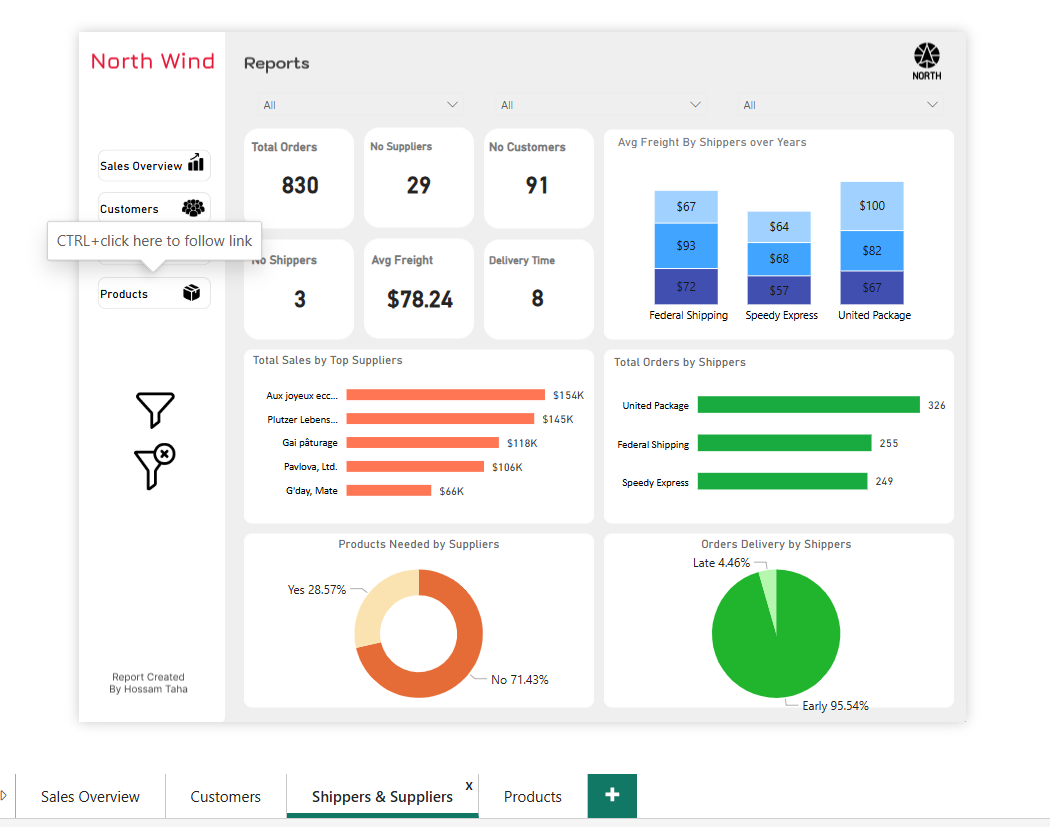

What the dashboard file says about the page in this screenshot:
{"tool":"powerbi","page":{"name":"Shippers & Suppliers","canvas":[887,690],"ordinal":2},"visuals":[{"type":"card","title":"Total Orders","fields":{"Values":["Orders (2).Total Orders"]},"box":[167.8,107.8,107.8,76.7],"z":0},{"type":"shape","box":[18.9,117.8,113.3,32.2],"z":0,"group":"g2"},{"type":"card","title":"No Suppliers","fields":{"Values":["Suppliers.No Suppliers"]},"box":[285.9,107.6,107.6,77.2],"z":1000},{"type":"shape","box":[18.9,161.1,113.3,32.2],"z":1000,"group":"g2"},{"type":"shape","box":[18.9,202.3,113.3,32.2],"z":2000,"group":"g2"},{"type":"card","title":"Avg Freight","fields":{"Values":["Orders.Avg Freight"]},"box":[287,220.7,107.6,77.2],"z":2000},{"type":"card","title":"No Shippers","fields":{"Values":["Shippers.No Shippers"]},"box":[167.8,221.1,107.8,76.7],"z":3000},{"type":"shape","box":[18.9,245.6,113.3,32.2],"z":3000,"group":"g2"},{"type":"image","box":[101,115.6,31.3,30.2],"z":4000,"group":"g2"},{"type":"card","title":"Delivery Time","fields":{"Values":["Orders.Avg Delivery Time"]},"box":[405.6,221.1,107.8,76.7],"z":4000},{"type":"card","title":"No Customers","fields":{"Values":["Customers.No Customers"]},"box":[405.6,107.8,107.8,76.7],"z":5000},{"type":"image","box":[98,160.9,34.2,32.2],"z":5000,"group":"g2"},{"type":"image","box":[94.1,202.1,38.1,32.2],"z":6000,"group":"g2"},{"type":"barChart","title":"Total Sales by Top Suppliers","fields":{"Category":["Suppliers.CompanyName"],"Y":["Order_Details.Total Saless"]},"box":[168.5,321.3,344.4,158.3],"z":6000},{"type":"image","box":[94.1,245.4,38.1,31.2],"z":7000,"group":"g2"},{"type":"group","id":"g1","title":"Group 5","box":[33.3,350,84.4,113.3],"z":7000},{"type":"columnChart","title":"Avg Freight By Shippers over Years","fields":{"Category":["Shippers.CompanyName"],"Series":["Orders.ShippedDate.Variation.Date Hierarchy.Year"],"Y":["Orders.Avg Freight"]},"box":[533.7,103,338,197.8],"z":8000},{"type":"barChart","title":"Total Orders by Shippers","fields":{"Y":["Orders.Total Orders"],"Category":["Shippers.CompanyName"]},"box":[530,322,344,158],"z":9000},{"type":"image","box":[40,350,72.2,55.6],"z":9000,"group":"g1"},{"type":"image","box":[33.3,406.7,84.4,56.7],"z":10000,"group":"g1"},{"type":"pieChart","title":"Orders Delivery by Shippers","fields":{"Category":["Orders.IsLate"],"Y":["CountNonNull(Orders.IsLate)"]},"box":[521.7,505.4,352.2,184.8],"z":10000},{"type":"slicer","fields":{"Values":["Orders.ShipRegion Hierarchy.ShipRegion","Orders.ShipRegion Hierarchy.ShipCountry","Orders.ShipRegion Hierarchy.ShipCity"]},"box":[168.3,50,225.8,45.8],"z":11000},{"type":"slicer","fields":{"Values":["Orders.ShippedDate.Variation.Date Hierarchy.Year","Orders.ShippedDate.Variation.Date Hierarchy.Quarter","Orders.ShippedDate.Variation.Date Hierarchy.Month","Orders.ShippedDate.Variation.Date Hierarchy.Day"]},"box":[406.2,50,231.2,41.2],"z":12000},{"type":"slicer","fields":{"Values":["Employees.FullName"]},"box":[648.3,50,225.8,45.8],"z":13000},{"type":"donutChart","title":"Products Needed by Suppliers","fields":{"Category":["Products.NeedsReorder"],"Y":["CountNonNull(Products.NeedsReorder)"]},"box":[164.1,505.4,352.2,184.8],"z":14000},{"type":"group","id":"g2","title":"Group 2","box":[18.9,115.6,113.3,162.2],"z":15000}]}

Visuals, with their boxes on the page's 887x690 design canvas (x1, y1, x2, y2). These are canvas units, not pixel positions in the 1050x827 screenshot, which may show the page scaled, cropped or inside an application window:
"Total Orders" card: bbox(168, 108, 276, 184)
shape: bbox(19, 118, 132, 150)
"No Suppliers" card: bbox(286, 108, 394, 185)
shape: bbox(19, 161, 132, 193)
shape: bbox(19, 202, 132, 234)
"Avg Freight" card: bbox(287, 221, 395, 298)
"No Shippers" card: bbox(168, 221, 276, 298)
shape: bbox(19, 246, 132, 278)
image: bbox(101, 116, 132, 146)
"Delivery Time" card: bbox(406, 221, 513, 298)
"No Customers" card: bbox(406, 108, 513, 184)
image: bbox(98, 161, 132, 193)
image: bbox(94, 202, 132, 234)
"Total Sales by Top Suppliers" barChart: bbox(168, 321, 513, 480)
image: bbox(94, 245, 132, 277)
"Group 5" group: bbox(33, 350, 118, 463)
"Avg Freight By Shippers over Years" columnChart: bbox(534, 103, 872, 301)
"Total Orders by Shippers" barChart: bbox(530, 322, 874, 480)
image: bbox(40, 350, 112, 406)
image: bbox(33, 407, 118, 463)
"Orders Delivery by Shippers" pieChart: bbox(522, 505, 874, 690)
slicer - Orders.ShipRegion Hierarchy.ShipRegion x Orders.ShipRegion Hierarchy.ShipCountry: bbox(168, 50, 394, 96)
slicer - Orders.ShippedDate.Variation.Date Hierarchy.Year x Orders.ShippedDate.Variation.Date Hierarchy.Quarter: bbox(406, 50, 637, 91)
slicer - Employees.FullName: bbox(648, 50, 874, 96)
"Products Needed by Suppliers" donutChart: bbox(164, 505, 516, 690)
"Group 2" group: bbox(19, 116, 132, 278)
